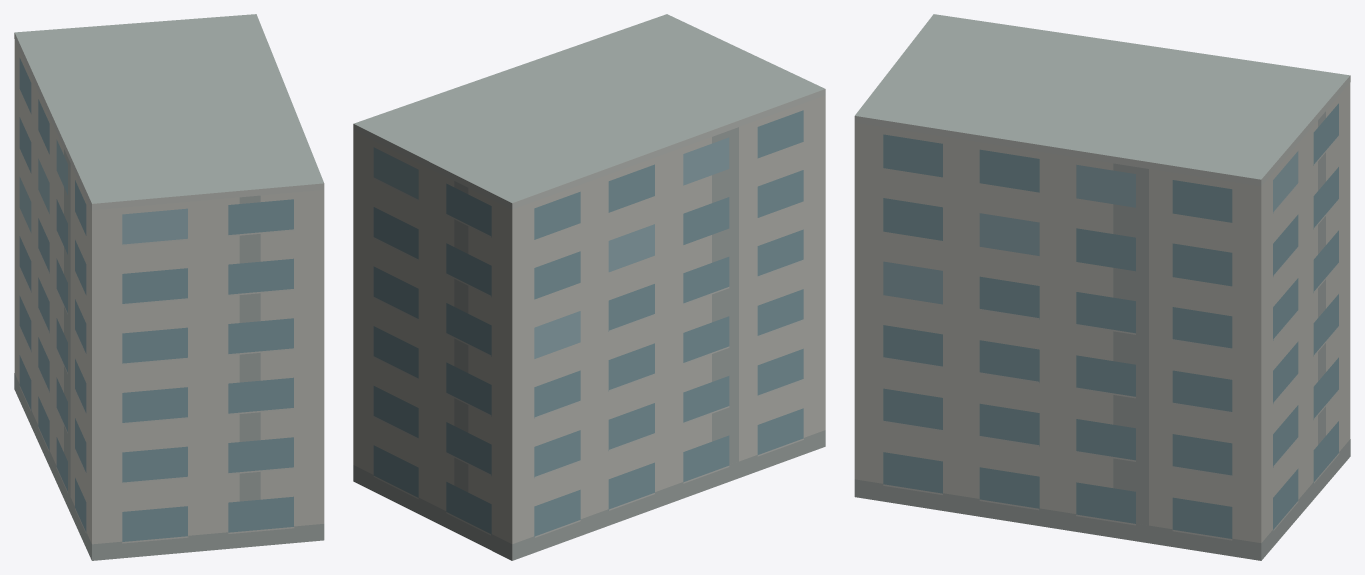
Rendered from survey-upis-32882607.glb.
3 renders of one model, left to right at view 1: azimuth 30°, elevation 25°; view 2: azimuth 150°, elevation 25°; view 3: azimuth 270°, elevation 25°, orthographic. The views are drawn at different scales.
Parts seen in each view (by area): view 1: survey-upis-32882607.tmp; view 2: survey-upis-32882607.tmp; view 3: survey-upis-32882607.tmp.
Boxes of the visible parts, x1,y1,x2,y2 form: survey-upis-32882607.tmp: (14,14,324,560); survey-upis-32882607.tmp: (353,14,825,560); survey-upis-32882607.tmp: (854,14,1350,560).
Size of the model in its own units: 12.41 by 13.3 by 15.69.
